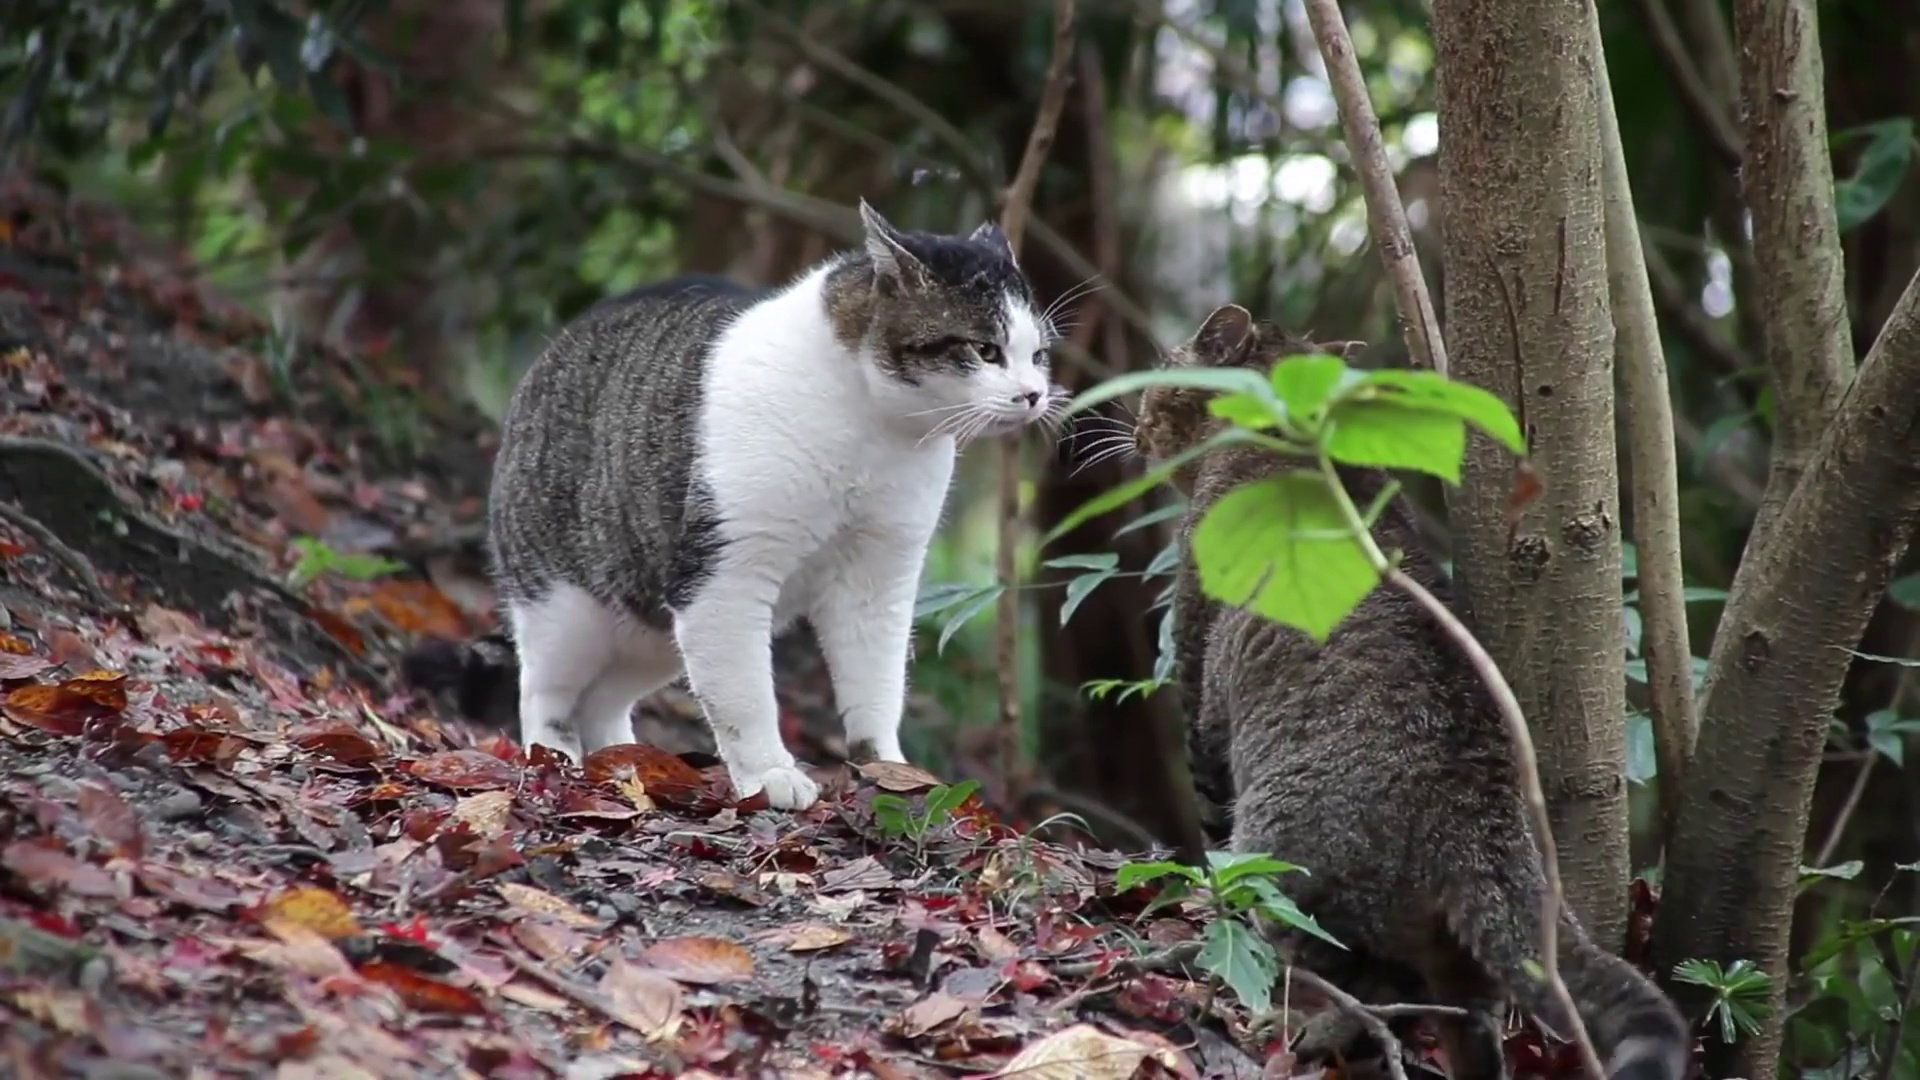black-white: (483, 196, 1050, 815)
pure black: (1127, 305, 1553, 977)
